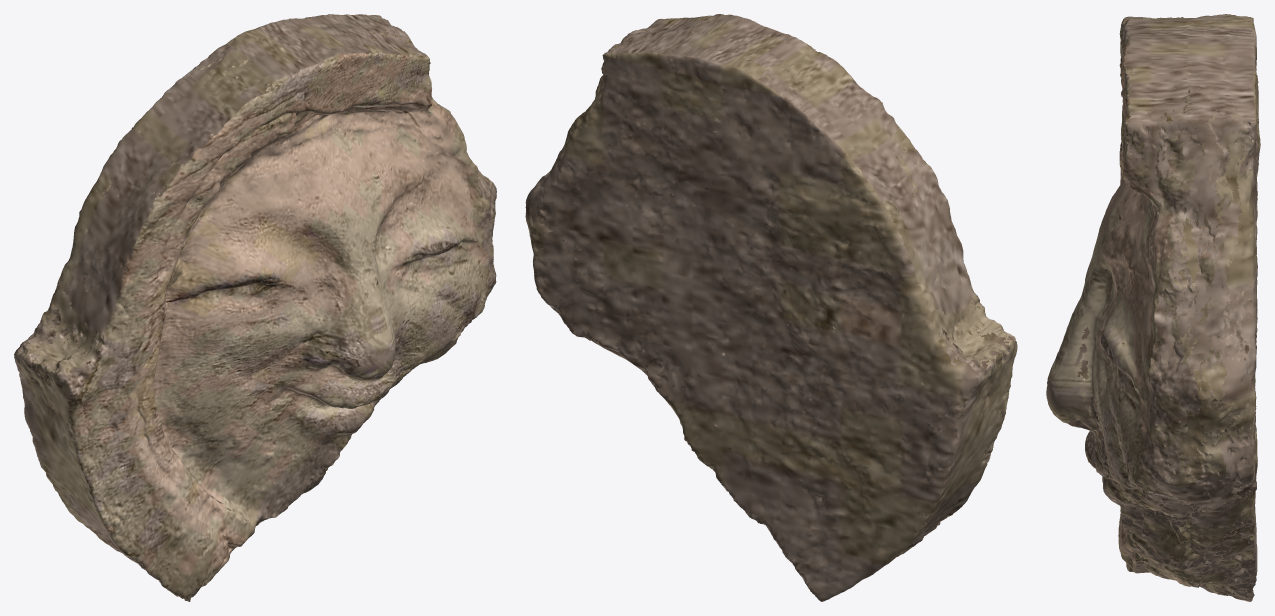
File: smile-v1.glb
3 views of the same model, side by side, from view 1: azimuth 30°, elevation 25°; view 2: azimuth 150°, elevation 25°; view 3: azimuth 270°, elevation 25° (orthographic). The views are drawn at different scales.
Parts seen in each view (by area): view 1: 천년의 미소 · 얼굴무늬 수막새; view 2: 천년의 미소 · 얼굴무늬 수막새; view 3: 천년의 미소 · 얼굴무늬 수막새.
Part boxes in pixels (x1=…): 천년의 미소 · 얼굴무늬 수막새: x1=14, y1=14, x2=496, y2=601; 천년의 미소 · 얼굴무늬 수막새: x1=525, y1=14, x2=1017, y2=601; 천년의 미소 · 얼굴무늬 수막새: x1=1046, y1=14, x2=1260, y2=601.
Size of the model in its own units: 0.2342 by 0.2499 by 0.0764.
Materials: 3 (3 with a texture image).
